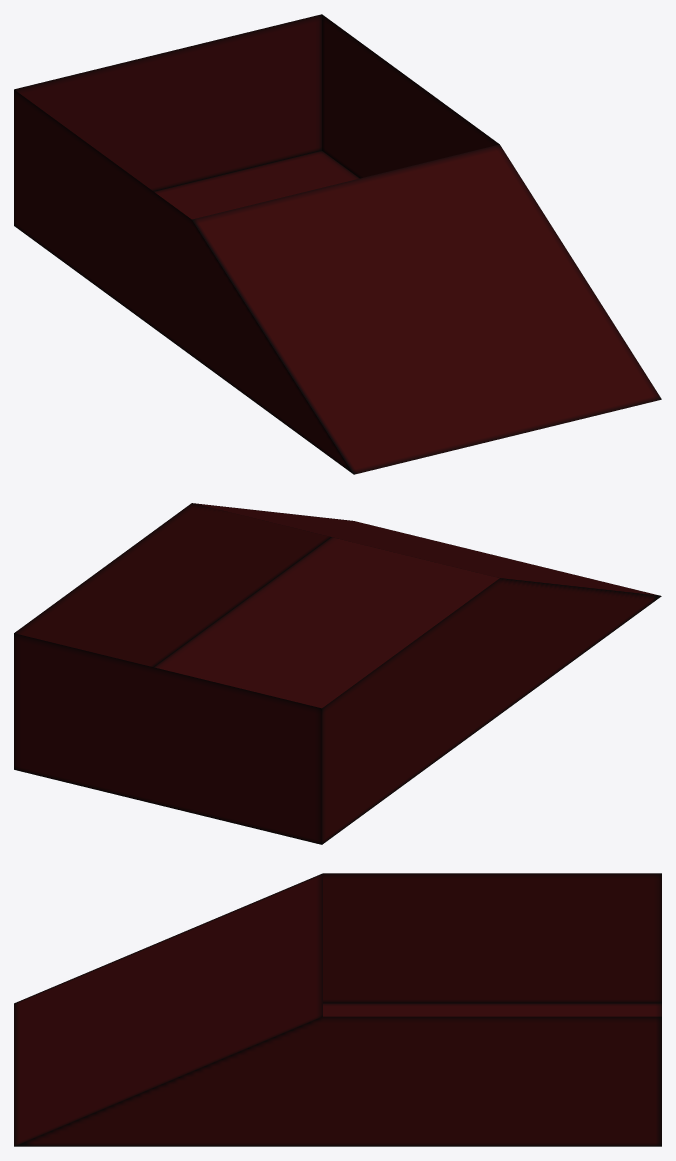
3 renders of one model, top to bottom at view 1: azimuth 30°, elevation 25°; view 2: azimuth 150°, elevation 25°; view 3: azimuth 270°, elevation 25°, orthographic. The views are drawn at different scales.
Visible parts, largest first — view 1: Shoes; view 2: Shoes; view 3: Shoes.
Part boxes in pixels (box(x1,y1,x2,y2)): Shoes: box(14, 14, 661, 474); Shoes: box(14, 503, 661, 844); Shoes: box(14, 873, 661, 1146).
Size of the model in its own units: 0.262 by 0.111 by 0.5008.
1 material, 1 textured.
